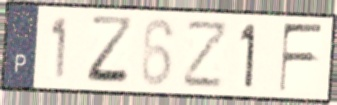1: (237, 22, 257, 91), (48, 15, 68, 83)
6: (138, 16, 179, 89)
F: (277, 22, 326, 95)
Z: (85, 13, 137, 88), (182, 19, 231, 90)
